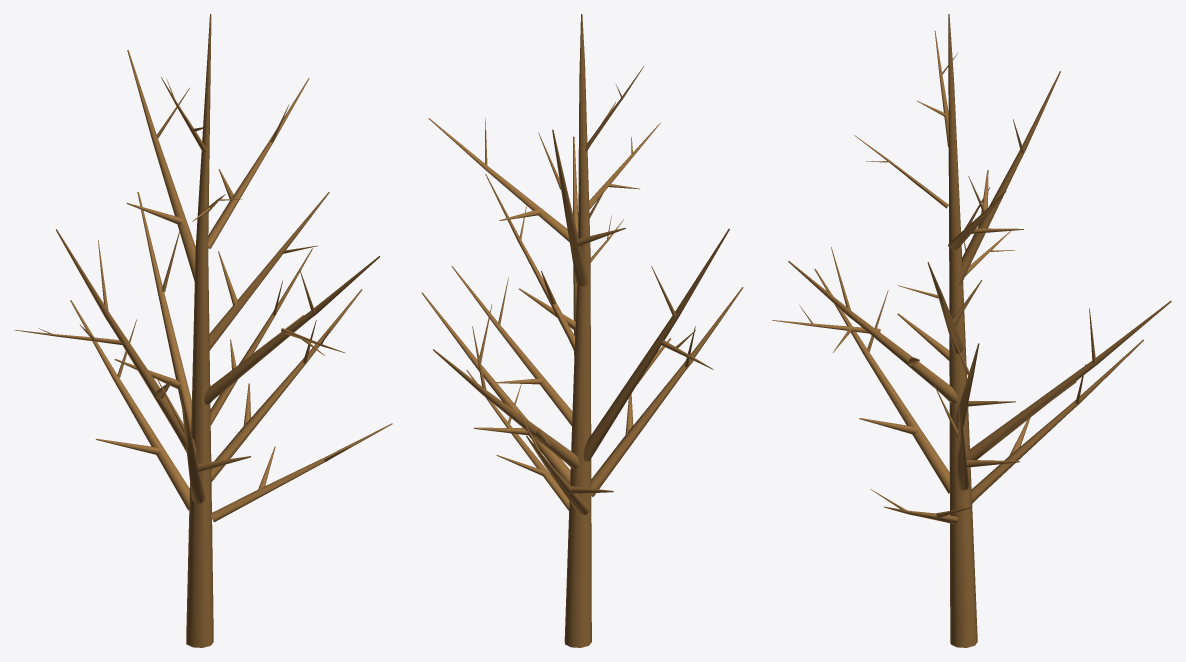
3 views of the same model, side by side, from view 1: azimuth 30°, elevation 25°; view 2: azimuth 150°, elevation 25°; view 3: azimuth 270°, elevation 25° (orthographic).
Visible parts, largest first — view 1: instance_1, instance_8, instance_2, instance_0.002, instance_15, instance_4, instance_9, instance_13, instance_10, instance_3, instance_5, instance_6; view 2: instance_1, instance_8, instance_5, instance_4, instance_9, instance_15, instance_6, instance_3, instance_13, instance_10, instance_2, instance_0.002; view 3: instance_1, instance_4, instance_5, instance_0.002, instance_2, instance_15, instance_9, instance_13.
Part boxes in pixels (x1=…): instance_1: x1=186, y1=14, x2=213, y2=647; instance_8: x1=56, y1=229, x2=196, y2=454; instance_2: x1=70, y1=300, x2=189, y2=510; instance_0.002: x1=204, y1=256, x2=379, y2=404; instance_15: x1=127, y1=50, x2=195, y2=281; instance_4: x1=137, y1=191, x2=191, y2=431; instance_9: x1=211, y1=289, x2=362, y2=481; instance_13: x1=209, y1=192, x2=329, y2=350; instance_10: x1=211, y1=423, x2=392, y2=522; instance_3: x1=207, y1=78, x2=309, y2=248; instance_5: x1=180, y1=390, x2=204, y2=503; instance_6: x1=210, y1=248, x2=312, y2=424; instance_1: x1=564, y1=14, x2=591, y2=647; instance_8: x1=583, y1=228, x2=729, y2=461; instance_5: x1=590, y1=287, x2=743, y2=496; instance_4: x1=433, y1=349, x2=579, y2=468; instance_9: x1=421, y1=292, x2=570, y2=484; instance_15: x1=552, y1=129, x2=587, y2=286; instance_6: x1=451, y1=266, x2=572, y2=425; instance_3: x1=428, y1=118, x2=569, y2=241; instance_13: x1=485, y1=174, x2=574, y2=351; instance_10: x1=466, y1=370, x2=569, y2=510; instance_2: x1=526, y1=435, x2=589, y2=515; instance_0.002: x1=573, y1=136, x2=578, y2=355; instance_1: x1=948, y1=14, x2=977, y2=647; instance_4: x1=966, y1=301, x2=1171, y2=459; instance_5: x1=814, y1=269, x2=949, y2=493; instance_0.002: x1=788, y1=261, x2=957, y2=403; instance_2: x1=971, y1=339, x2=1143, y2=503; instance_15: x1=954, y1=71, x2=1060, y2=285; instance_9: x1=956, y1=406, x2=969, y2=490; instance_13: x1=927, y1=262, x2=963, y2=353.
Size of the model in its own units: 4.67 by 5.03 by 8.75.
